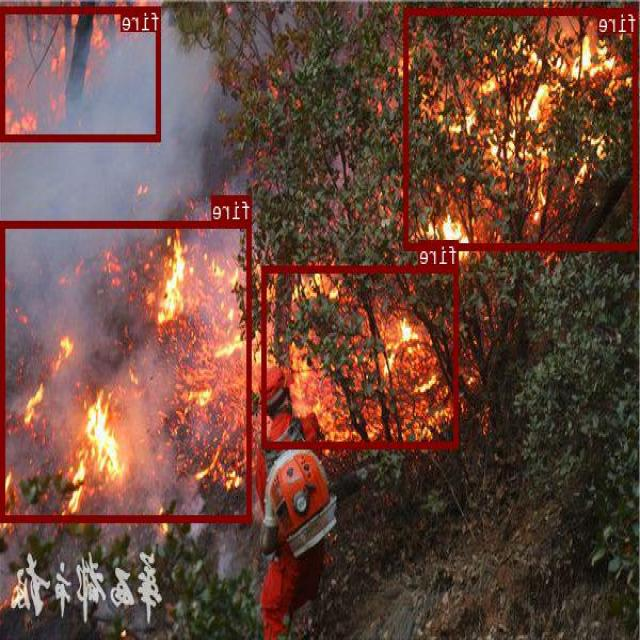fire: (2, 220, 252, 520), (405, 8, 638, 248), (263, 266, 459, 447), (2, 6, 161, 139)
